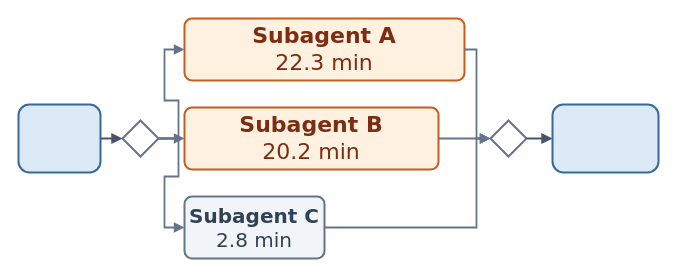
This 676x276 diagram has some shape labels left out. Here are the shapes that lost their labels. From the top down, the centre of each, then its label:
At point 59,138: "Main".
At point 605,138: "Continue".
